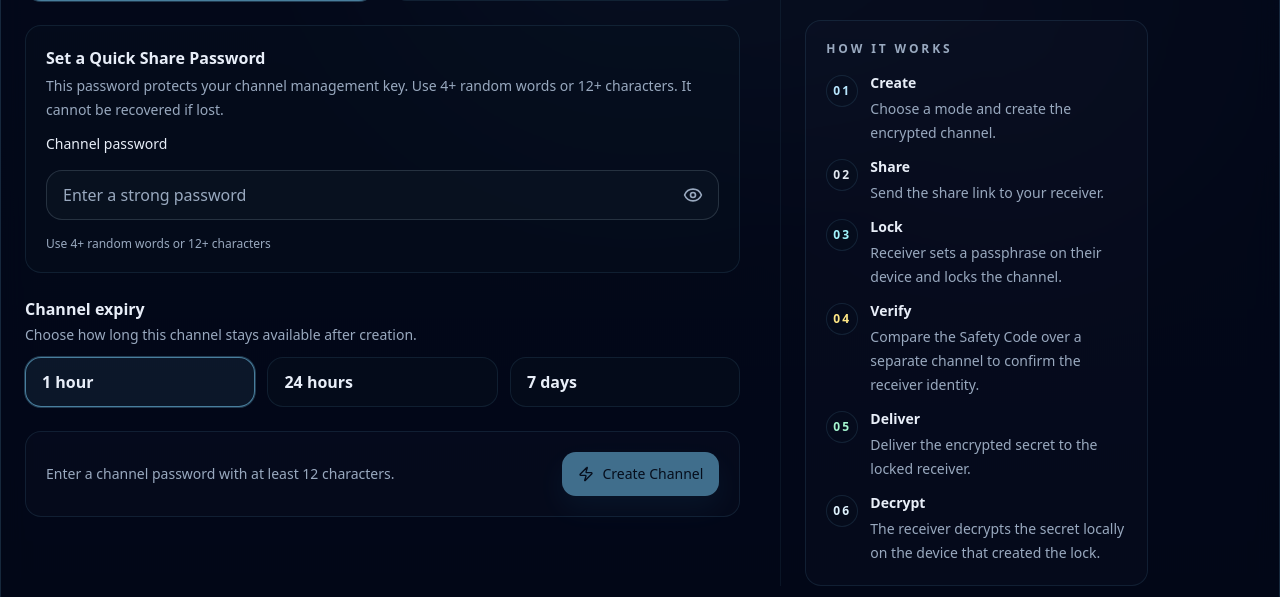
it: CreatePage integration › enables submit button in Secure mode when WebAuthn is available
(page scrolled)
Click the radio button with test id "create-ttl-one-day" at [383, 382], box 267,357 -> 498,407
(page scrolled)
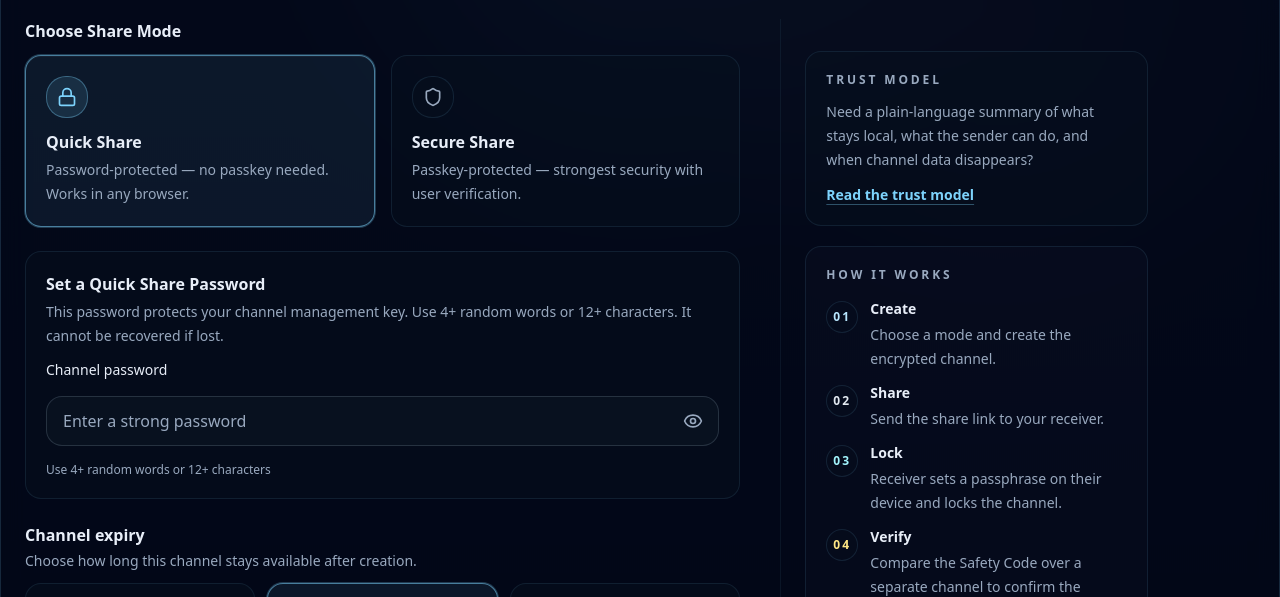
Click the button with test id "mode-card-secure" at [433, 97], box 391,55 -> 740,227
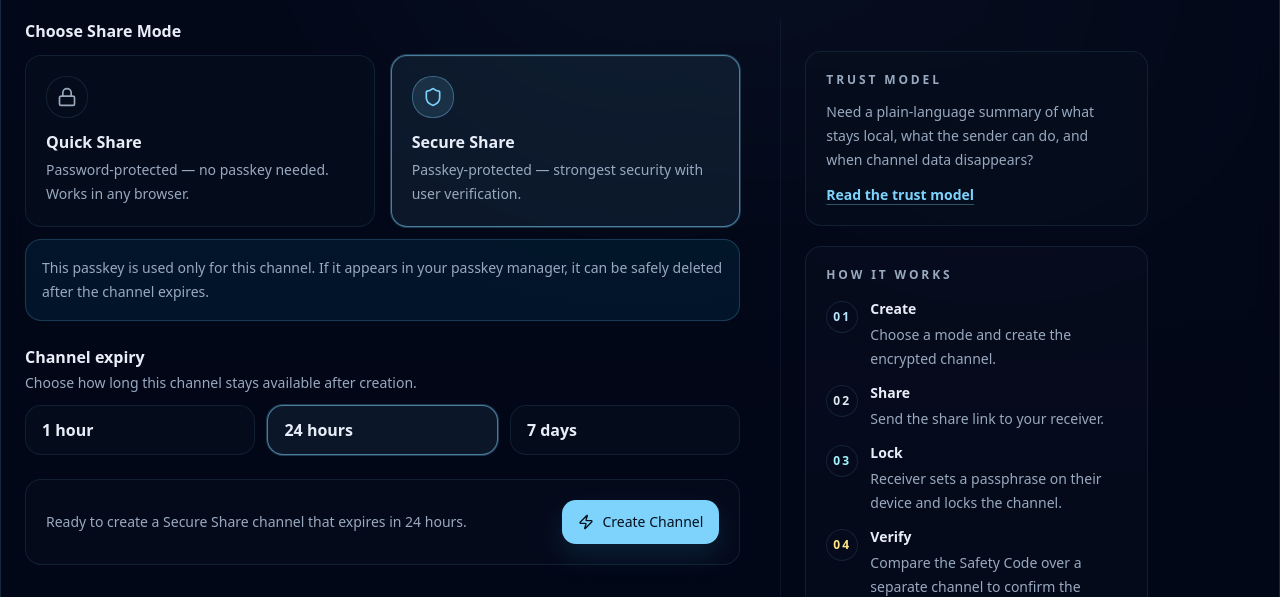
Check: the button with test id "create-submit-button" is enabled, box 562,500 -> 719,544
Check: the text with test id "create-action-hint" reads "Ready to create a Secure Share channel that expires in 24 hours.", box 46,512 -> 467,531
